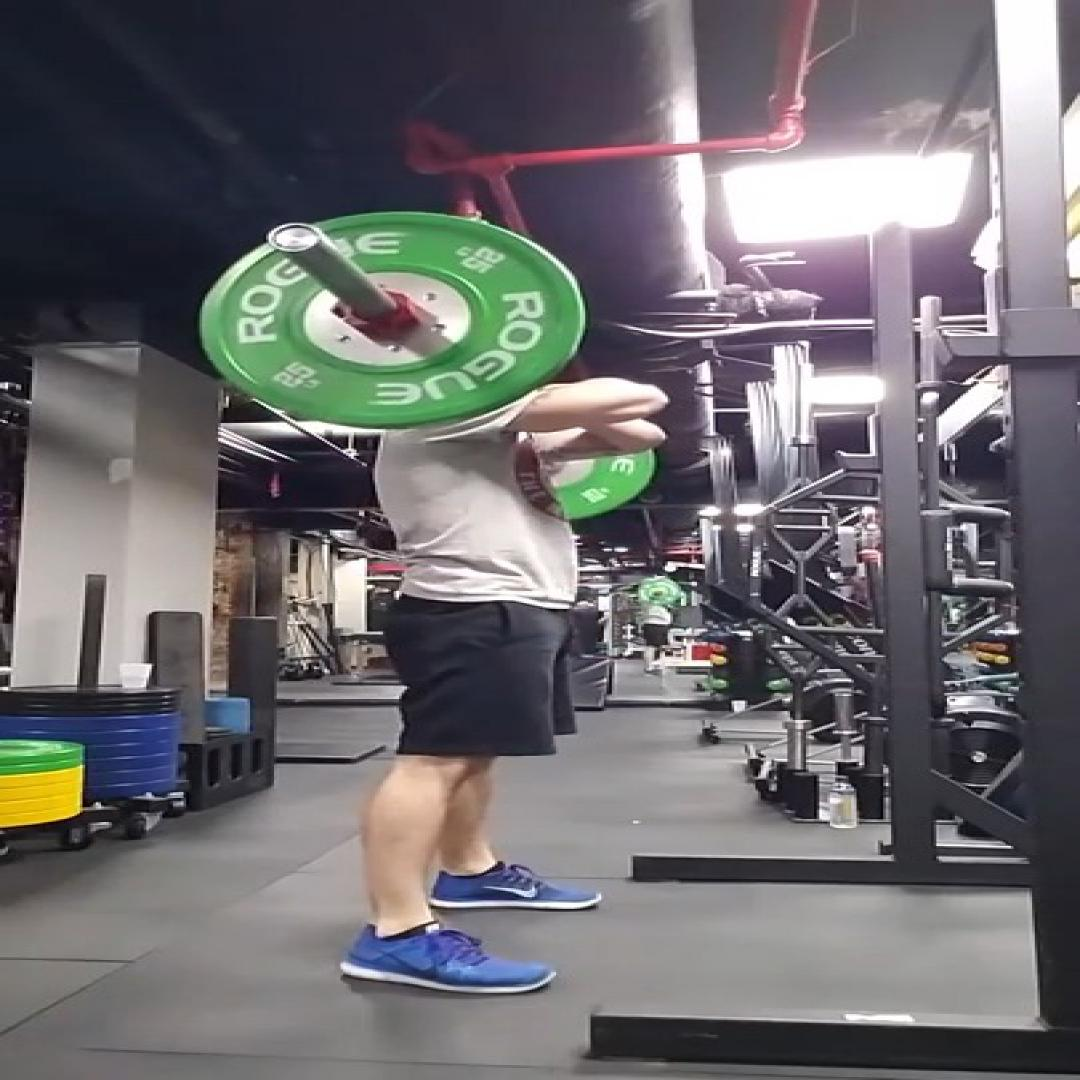Bar: (266, 222, 322, 252)
Barbell: (200, 212, 582, 426)
